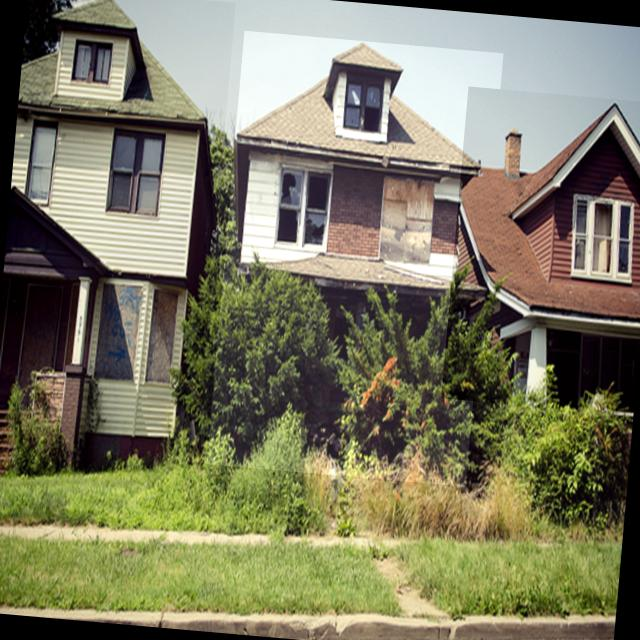House: (206, 31, 503, 487), (0, 0, 235, 493), (440, 86, 640, 415)
